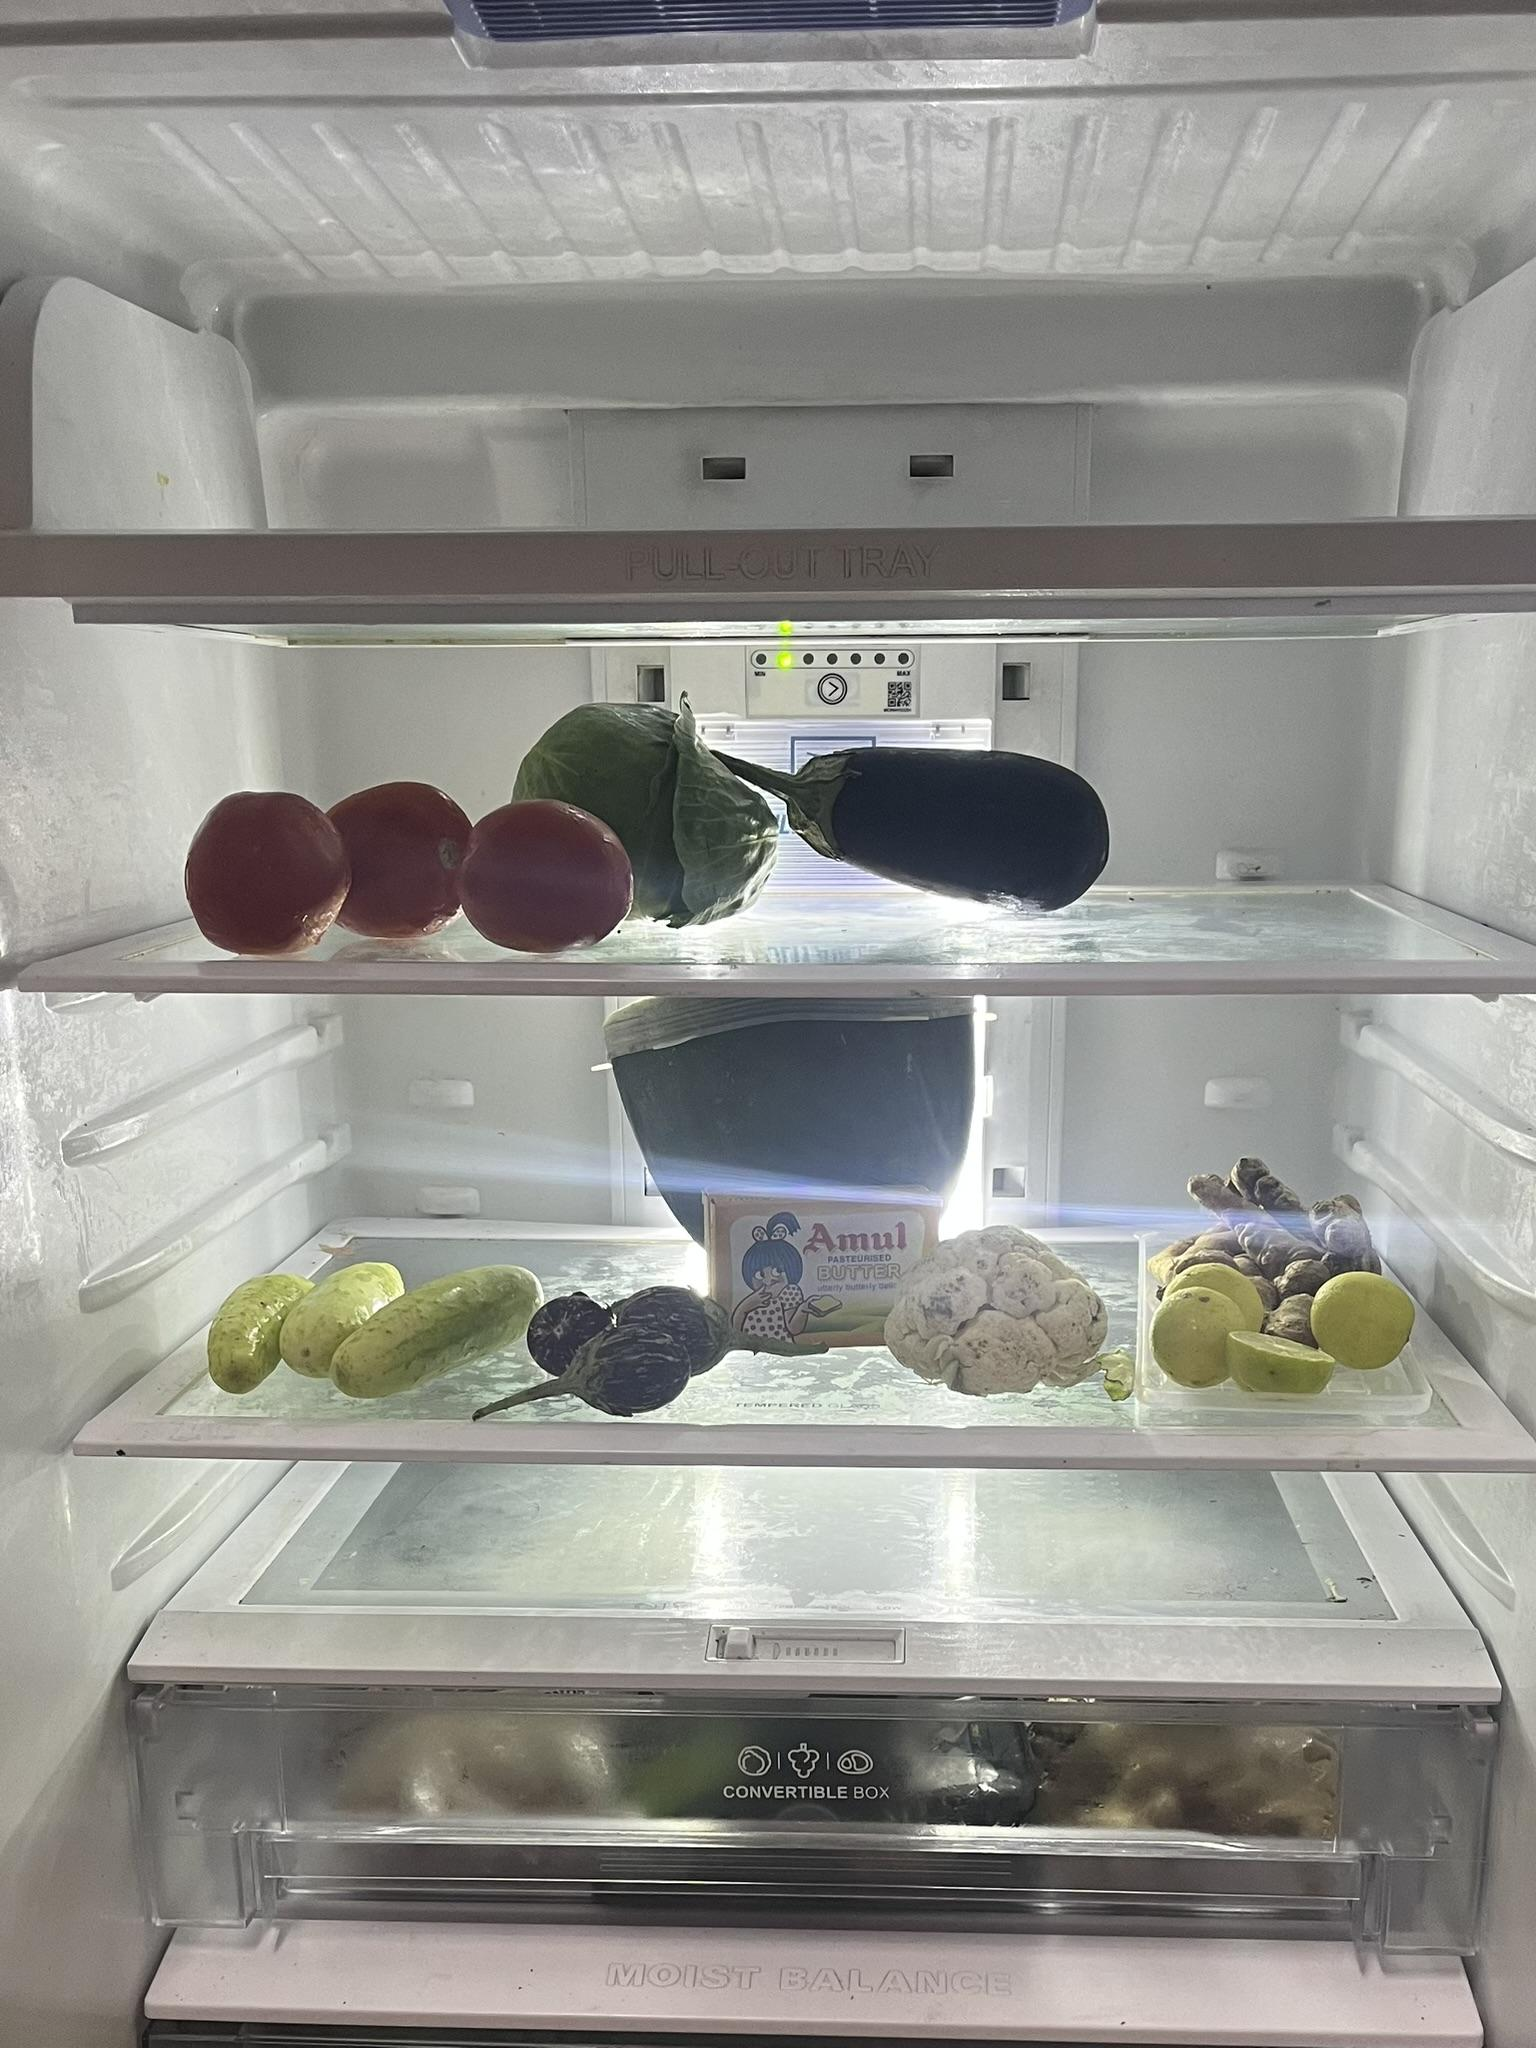bringal: (760, 737, 1129, 916), (494, 1284, 757, 1397)
butter: (700, 1184, 950, 1359)
cabbage: (529, 706, 773, 927)
cauliflower: (873, 1230, 1123, 1403)
cucumber: (194, 1266, 560, 1390)
ginger: (1160, 1163, 1400, 1306)
lemon: (1147, 1271, 1410, 1409)
tomato: (187, 766, 626, 953)
watermelon: (626, 1000, 987, 1277)
